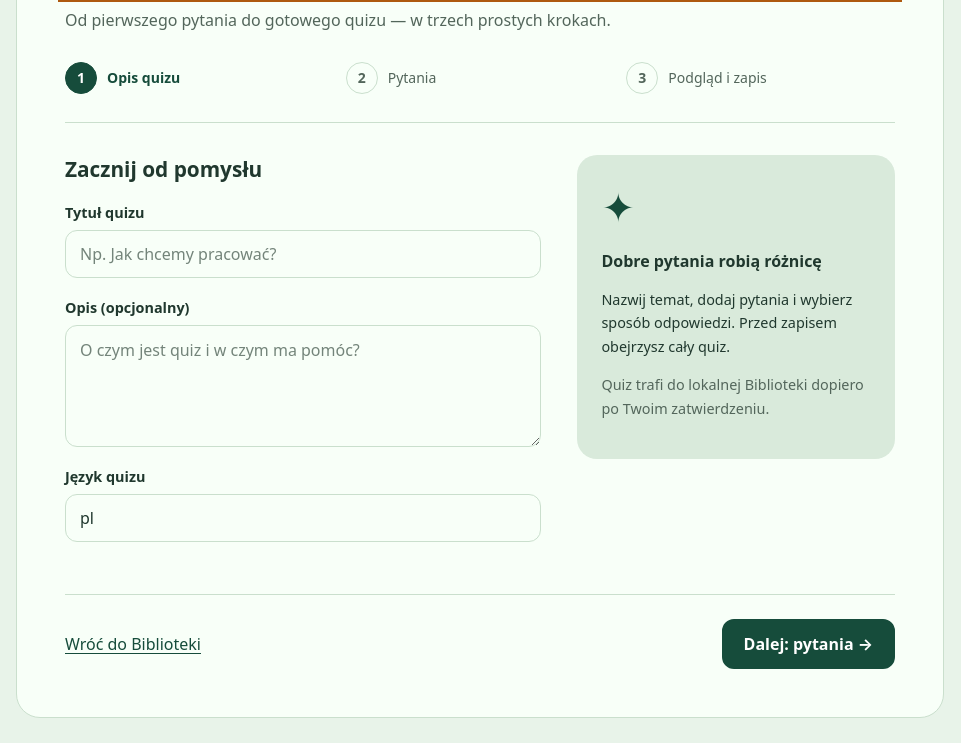
Test: blokuje pusty opis i błędne pytania przed zapisem
The image size is (961, 743).
(page scrolled)
Click the button "Dalej: pytania →": click(808, 644) x1=722 y1=619 x2=895 y2=669
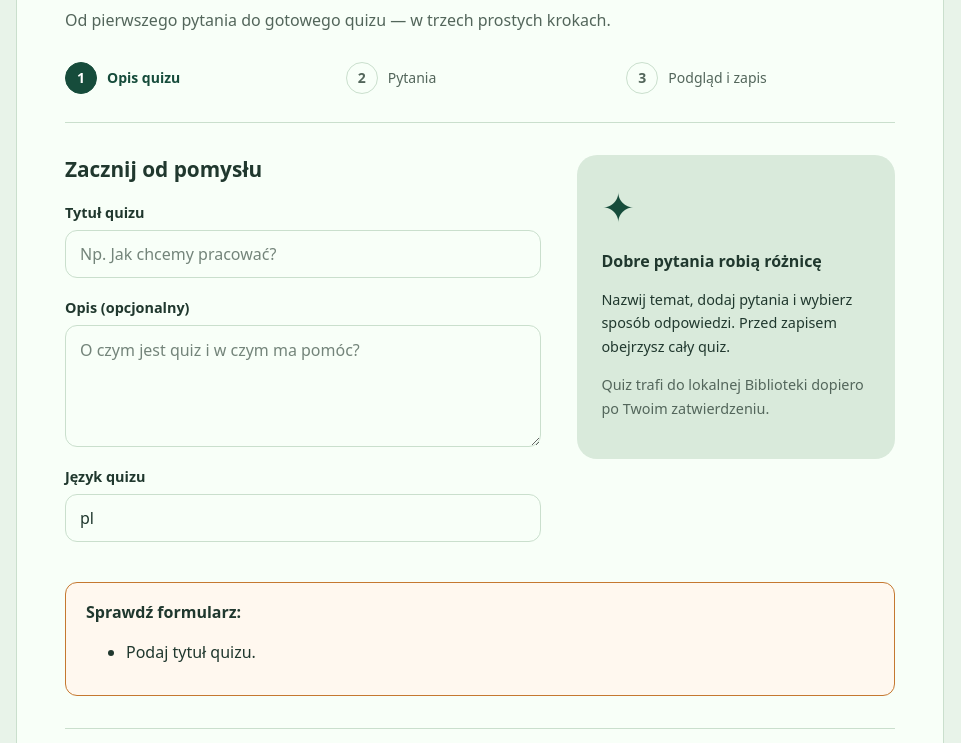
Check: the message shows "Podaj tytuł quizu.", box x1=126 y1=641 x2=256 y2=663
In the field labelled "Tytuł quizu": (303, 254) x1=65 y1=230 x2=541 y2=278, type "Quiz"
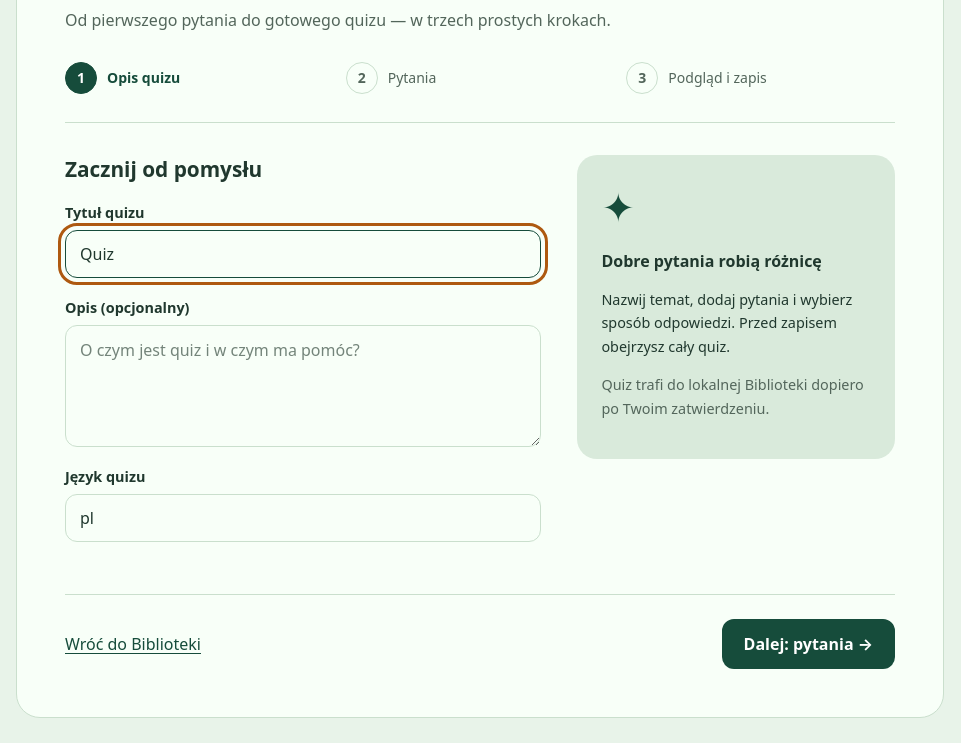
Click the button "Dalej: pytania →": click(808, 644) x1=722 y1=619 x2=895 y2=669
(page scrolled)
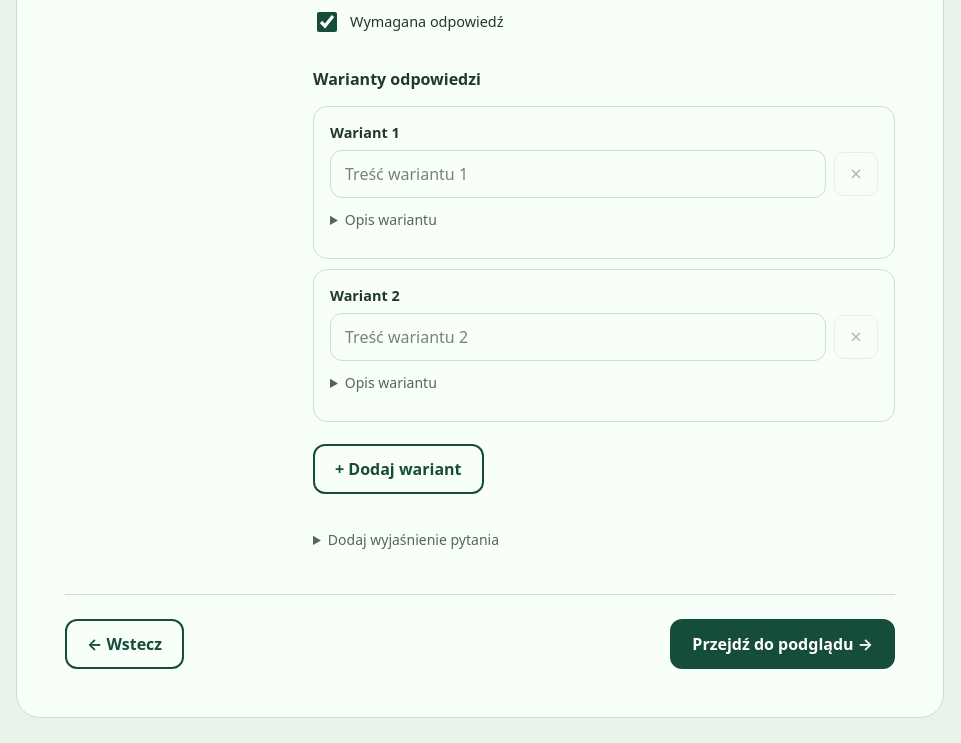
Click the button "Przejdź do podglądu →": click(783, 644) x1=670 y1=619 x2=895 y2=669
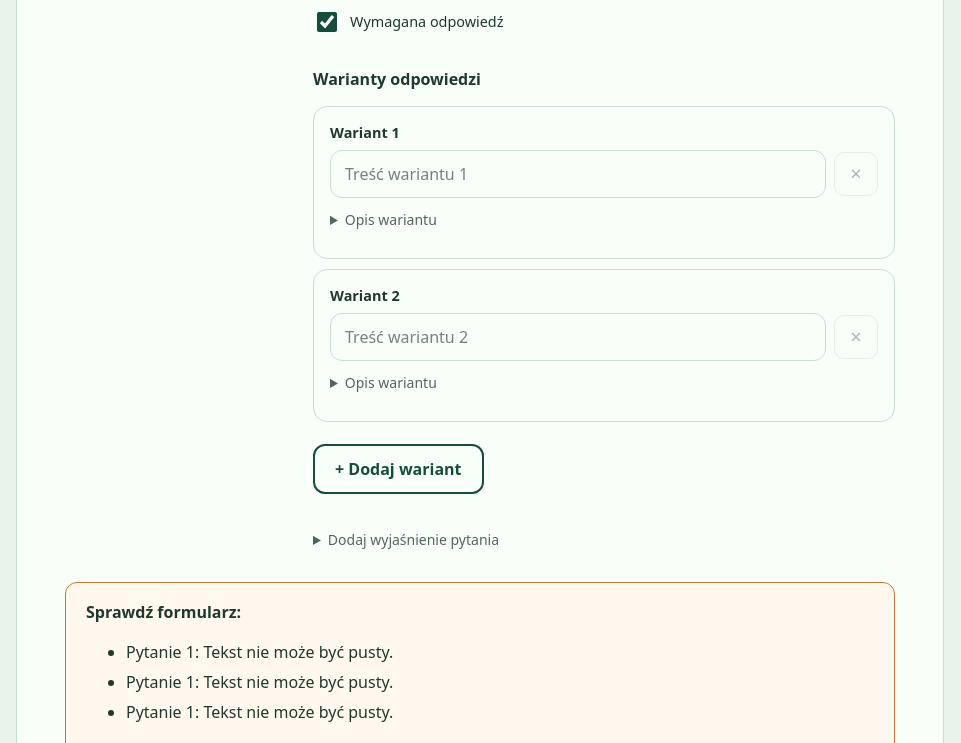
Check: the message shows "Pytanie 1", box x1=126 y1=641 x2=393 y2=663
